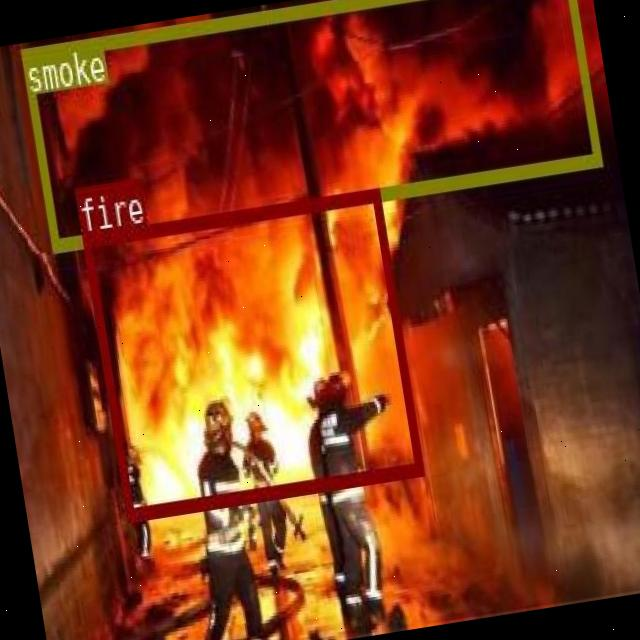fire: (81, 186, 422, 518)
smoke: (19, 0, 600, 249)
